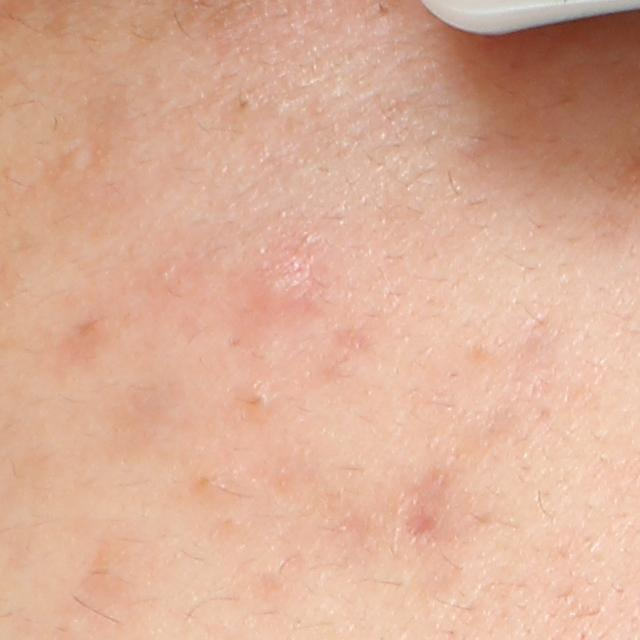comedo: (239, 377, 281, 417), (55, 144, 97, 178), (236, 88, 258, 122)
papule: (242, 244, 329, 323)
